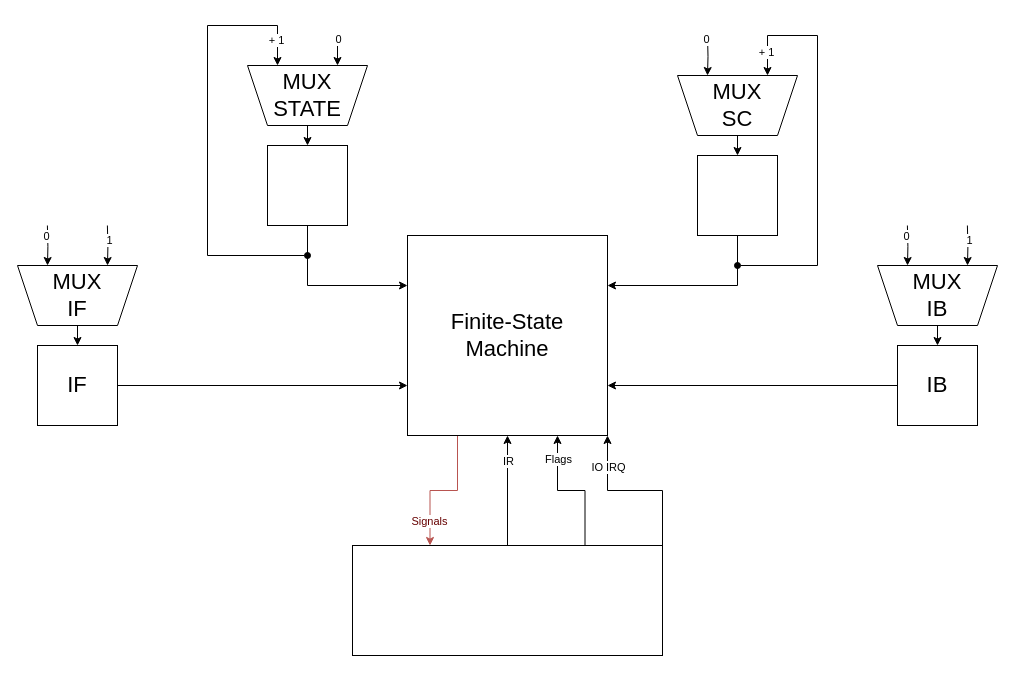
The diagram is 1015 pixels wide and 673 high, and some of its shapes have lost their labels. Here are the shapes that lost their labels. From the top down, the box of each, then its label:
(266, 144, 348, 226): State
(696, 154, 778, 236): Step Counter
(352, 544, 662, 656): Data path
